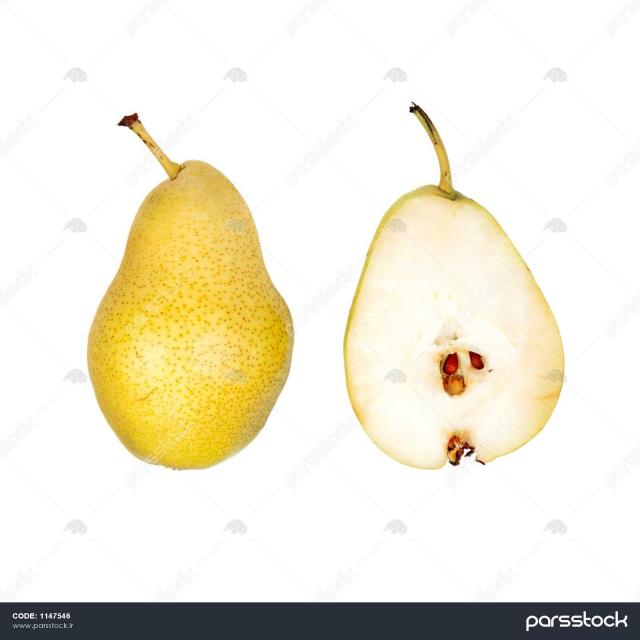pear: (336, 101, 576, 472), (84, 113, 300, 474)
